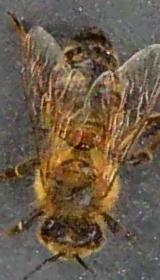varroa_mite: (64, 122, 104, 153)
